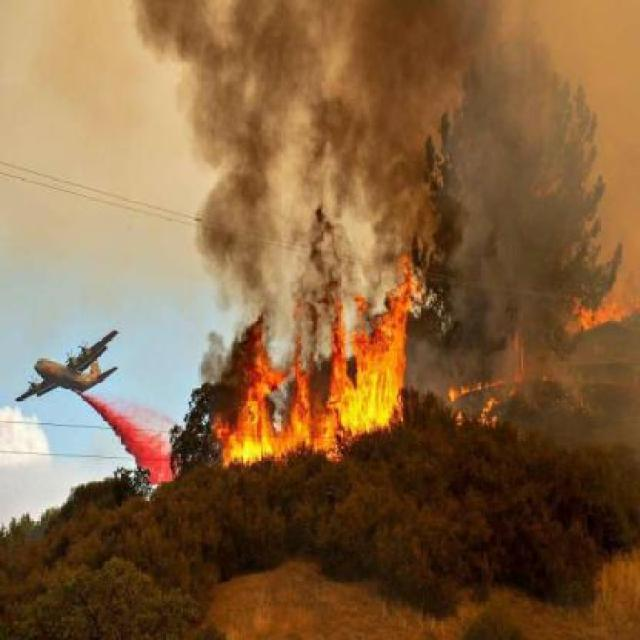Fire: (214, 252, 408, 471), (450, 356, 527, 433), (567, 292, 633, 332)
Smoke: (335, 7, 463, 287), (250, 3, 318, 91), (200, 206, 269, 266), (132, 0, 216, 49), (236, 108, 279, 164), (219, 166, 270, 205)
